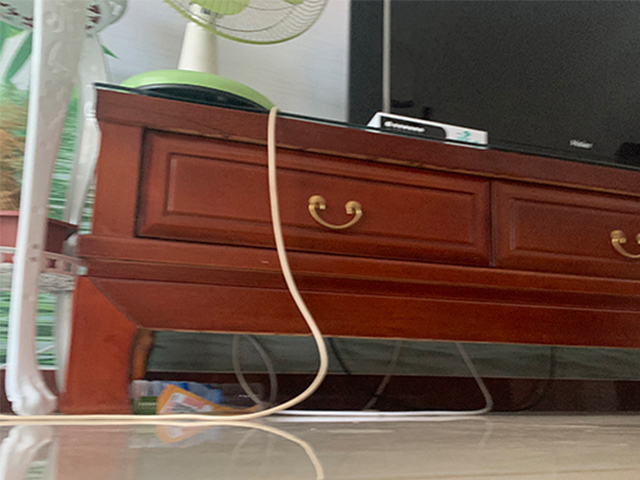cabinet: (46, 82, 640, 417)
wire: (1, 338, 524, 423)
